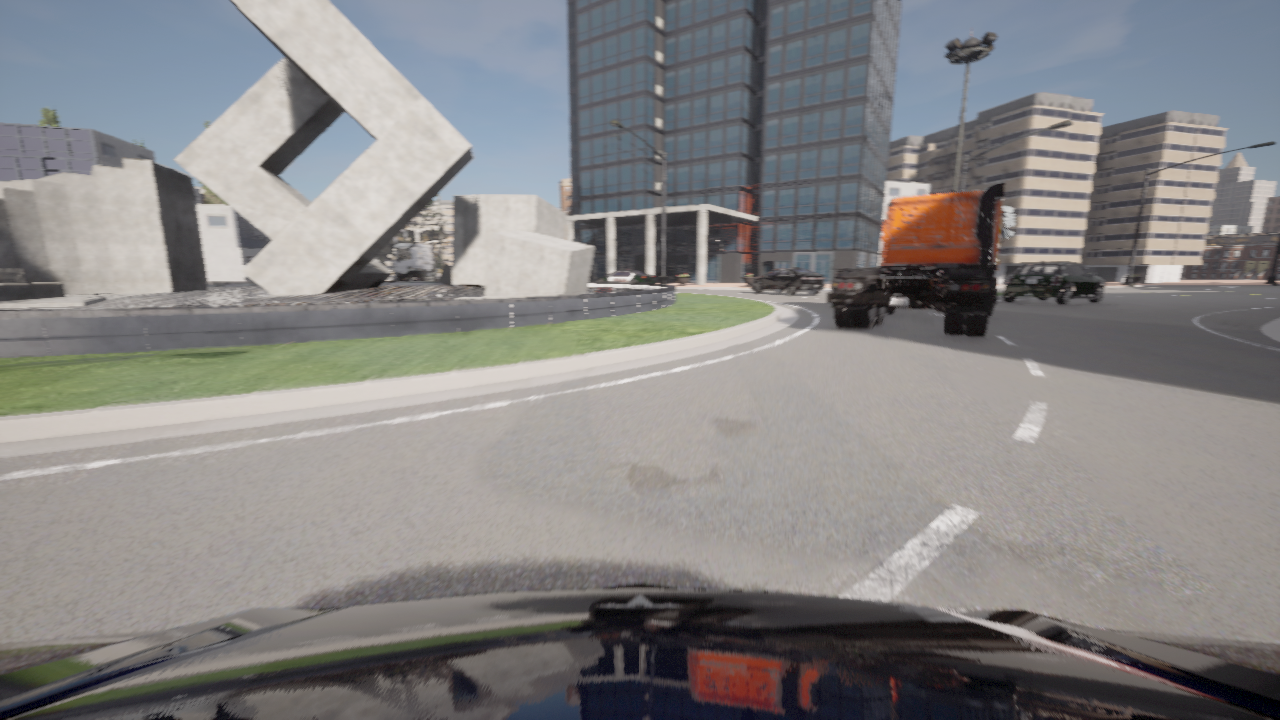cyclist: (0, 584, 1279, 719), (827, 182, 1015, 337), (1003, 261, 1104, 304), (751, 268, 824, 295), (392, 244, 439, 280), (595, 269, 655, 283)
